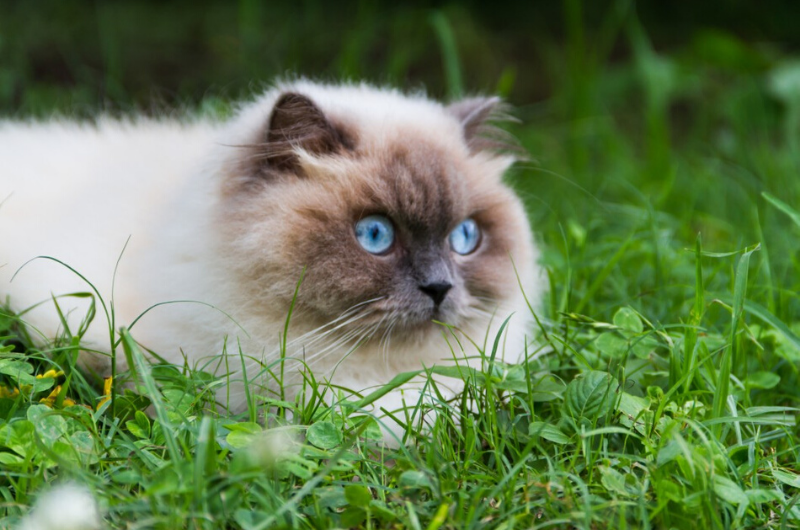cat: (1, 72, 569, 460)
